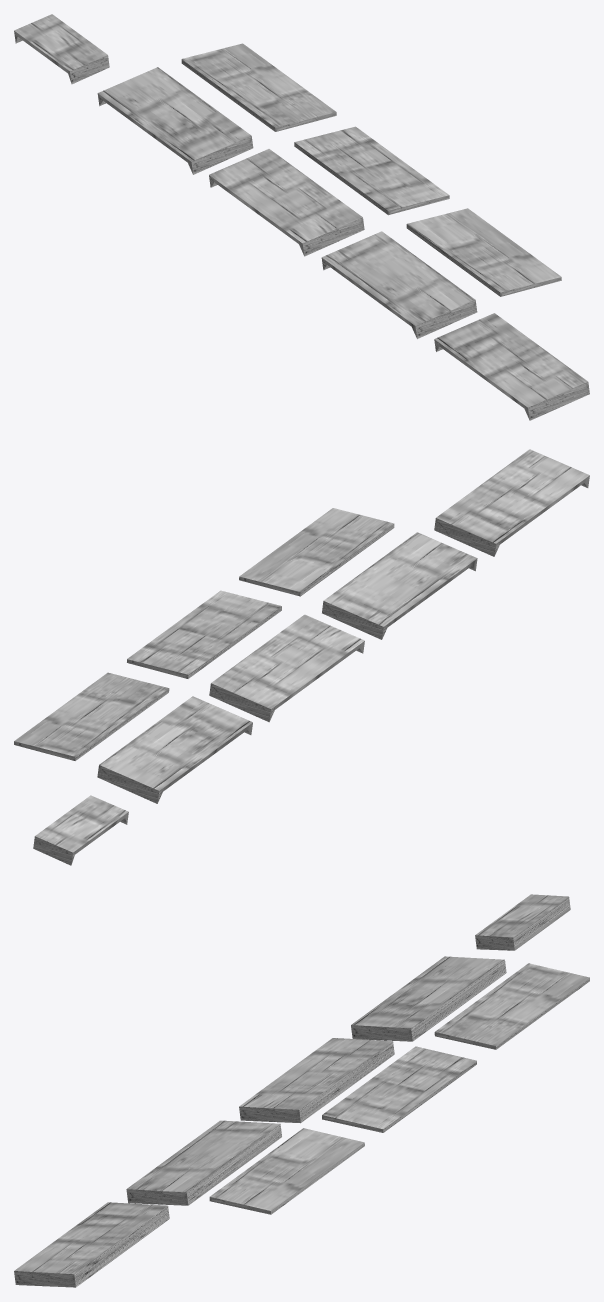
Rendered from busy-levee-foundations.obj.
3 views of the same model, one above another, from view 1: azimuth 30°, elevation 25°; view 2: azimuth 150°, elevation 25°; view 3: azimuth 330°, elevation 25° (orthographic).
Parts seen in each view (by area): view 1: Foundations; view 2: Foundations; view 3: Foundations.
Boxes of the visible parts, left/top/right/bottom form: Foundations: left=14, top=14, right=589, bottom=420; Foundations: left=14, top=449, right=589, bottom=865; Foundations: left=14, top=894, right=589, bottom=1287.
Size of the model in its own units: 593 by 109 by 3633.
